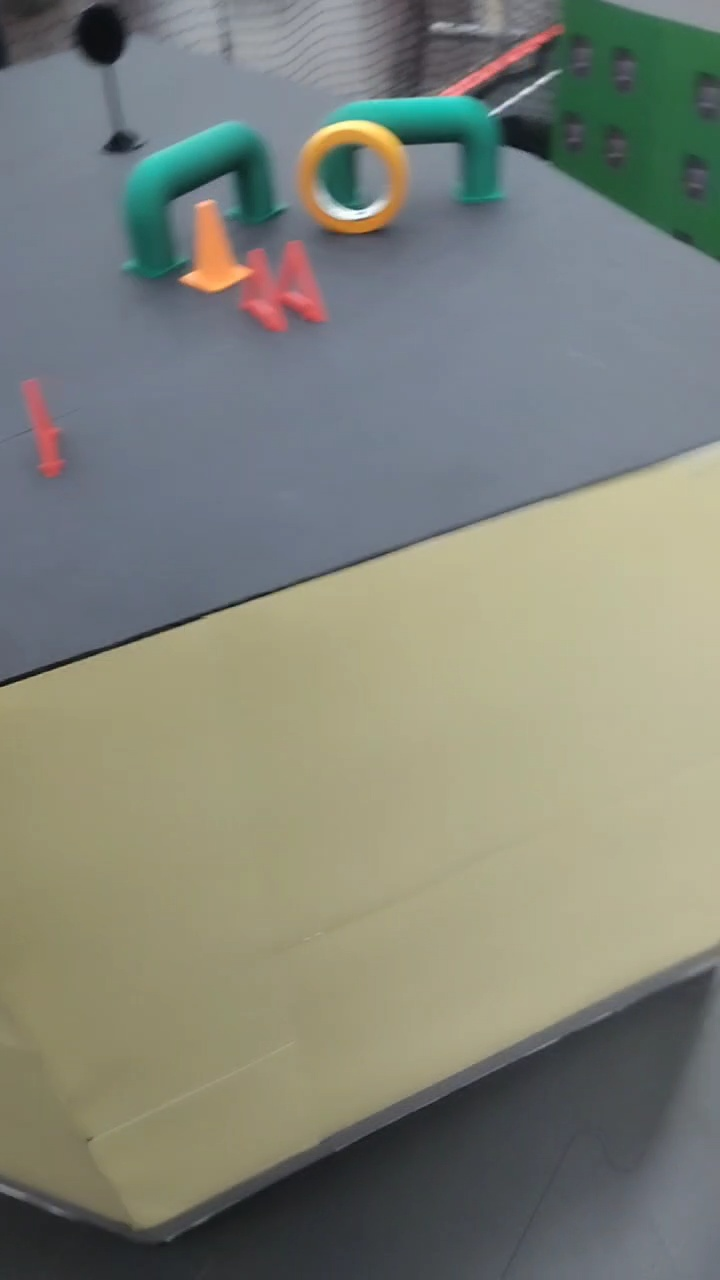No entry: (97, 113, 271, 278), (321, 83, 522, 221)
Parking: (170, 178, 249, 303), (272, 227, 328, 325), (235, 245, 285, 334)
